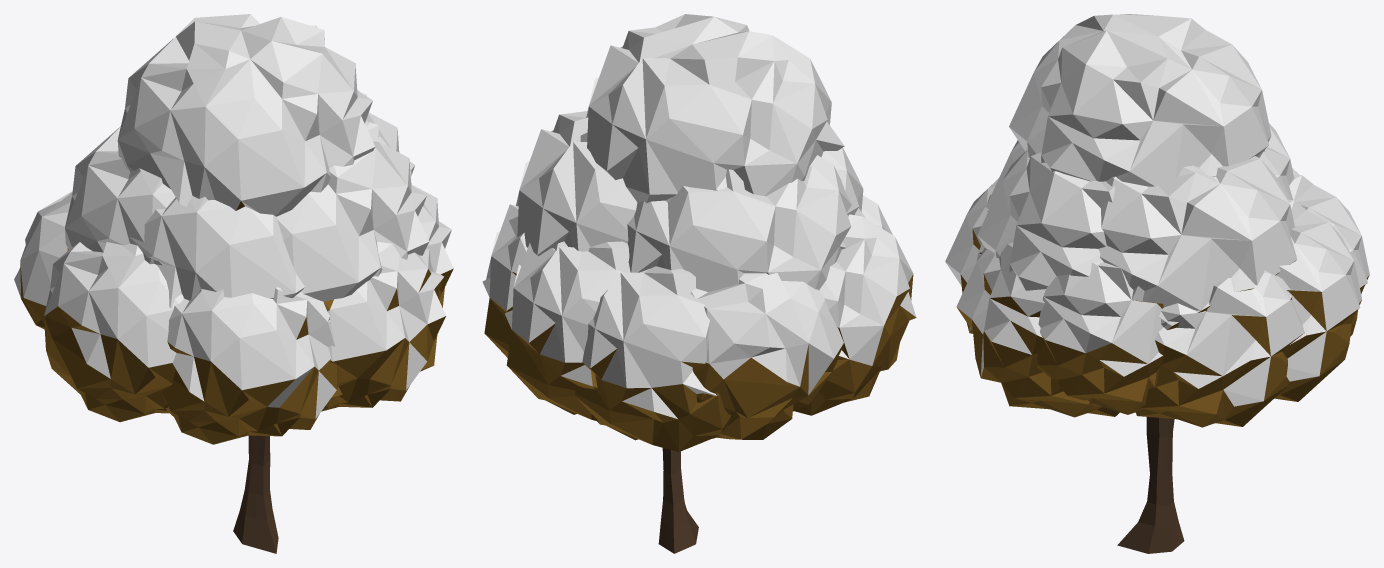
Rendered from winter tree 5.fbx.
3 renders of one model, left to right at view 1: azimuth 30°, elevation 25°; view 2: azimuth 150°, elevation 25°; view 3: azimuth 270°, elevation 25°, orthographic. The views are drawn at different scales.
Parts seen in each view (by area): view 1: LowPoly Tree .039; view 2: LowPoly Tree .039; view 3: LowPoly Tree .039.
Boxes of the visible parts, <box> form: LowPoly Tree .039: <box>14,14,453,553</box>; LowPoly Tree .039: <box>482,14,916,553</box>; LowPoly Tree .039: <box>945,14,1369,553</box>.
Size of the model in its own units: 145 by 190 by 144.
